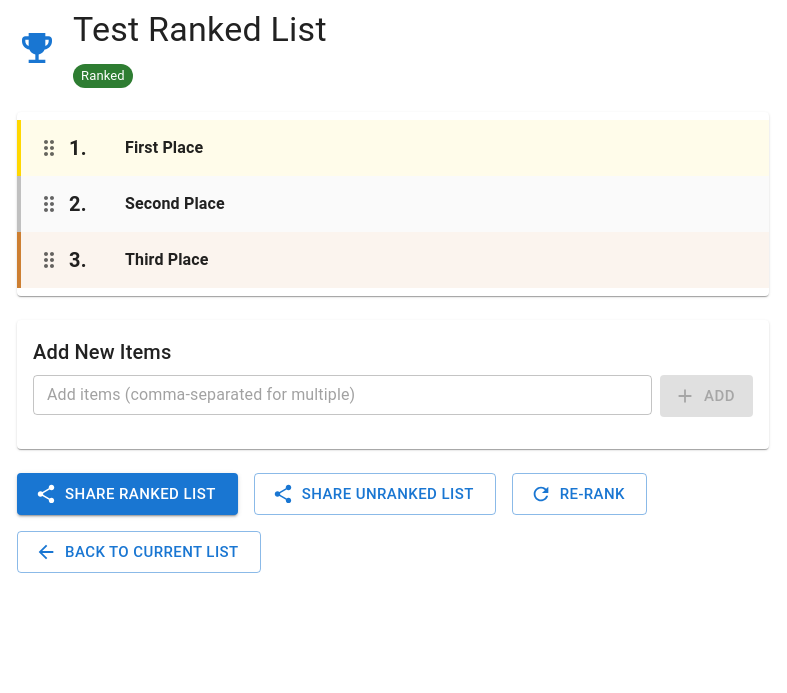
Scenario: RankedResultView › Add New Items Section › adds new item to unranked items list
This screenshot has width=787, height=693.
Type "New Item" into the field with placeholder "Add items (comma-separated for multiple)".
click(343, 395); type("New Item")  # box [33,375,652,415]
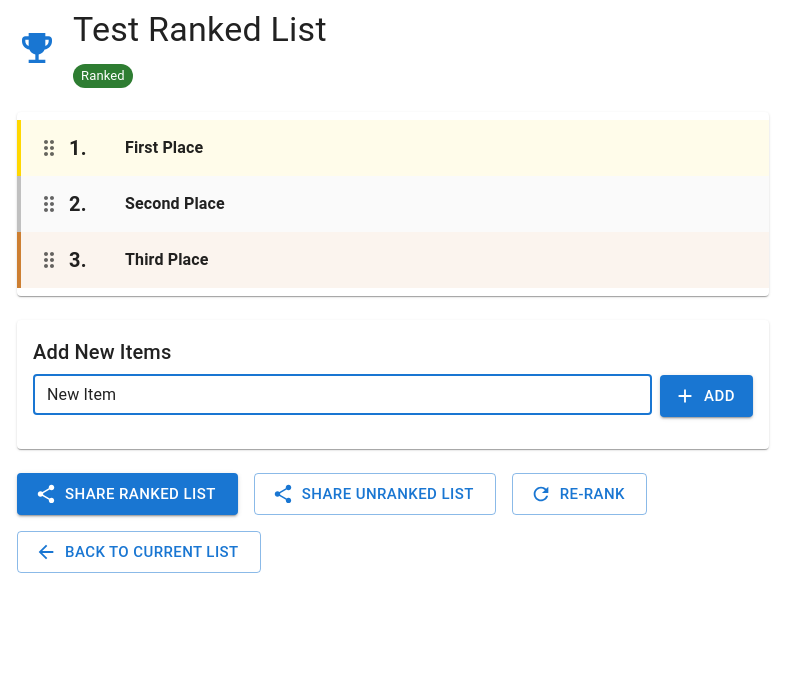
Click the button "Add".
click(707, 396)  # box [660,375,753,417]
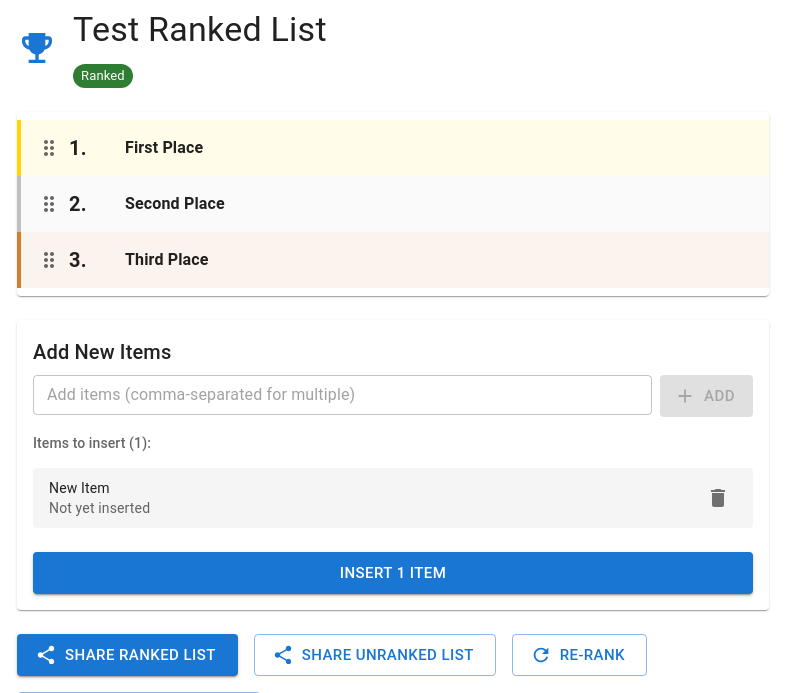
Now the text "New Item" is shown, box [49,480,110,496]
Now the text "Not yet inserted" is shown, box [49,500,150,516]
